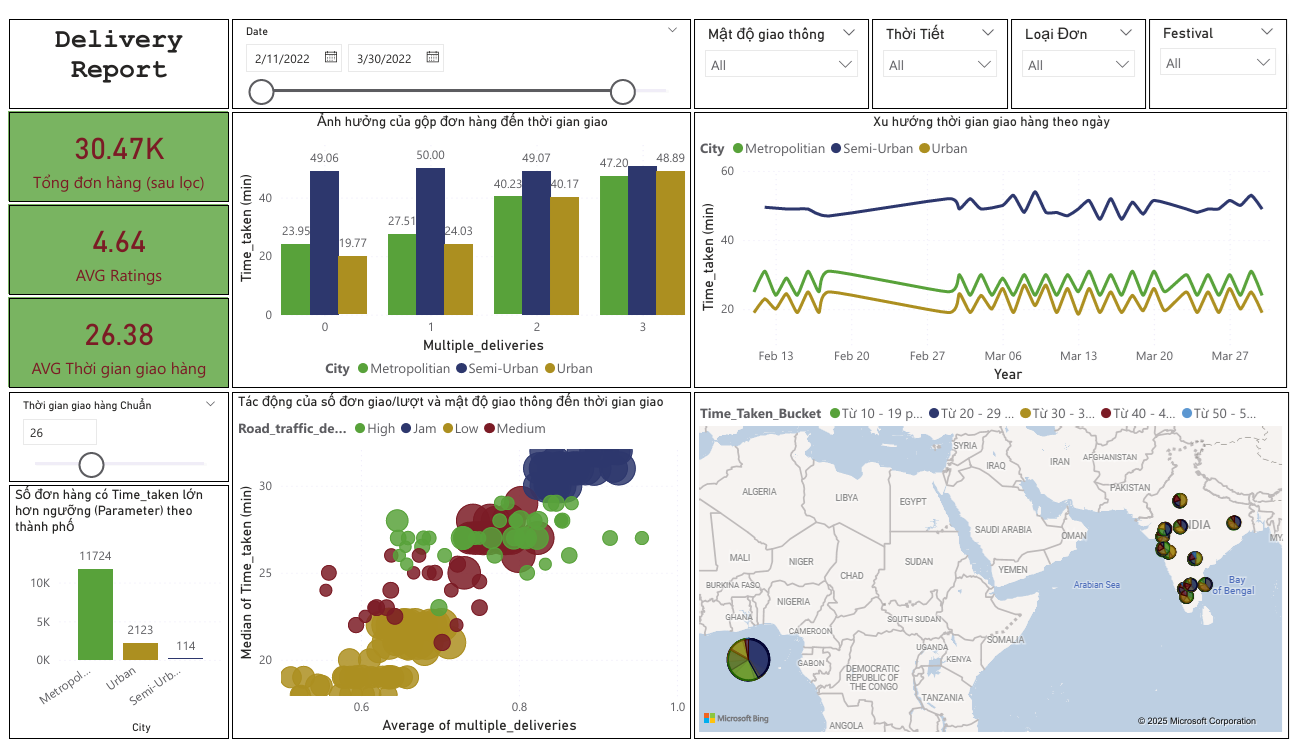

What the dashboard file says about the page in this screenshot:
{"tool":"powerbi","page":{"name":"Page 1","canvas":[1280,720],"ordinal":0},"visuals":[{"type":"slicer","fields":{"Values":["Delivery.Weather_conditions"]},"box":[863,0,136,90],"z":0},{"type":"slicer","fields":{"Values":["Delivery.Road_traffic_density"]},"box":[685,0,175,90],"z":1000},{"type":"slicer","fields":{"Values":["Delivery.Type_of_order"]},"box":[1002,0,135,90],"z":2000},{"type":"scatterChart","title":"Tác động của số đơn giao/lượt và mật độ giao thông đến thời gian giao","fields":{"Y":["Median(Delivery.Time_taken (min))"],"Size":["CountNonNull(Delivery.Weather_conditions)"],"Series":["Delivery.Road_traffic_density"],"X":["Avg(Delivery.multiple_deliveries)"],"Category":["Delivery.Time_Orderd"]},"box":[223,373,459,347],"z":3000},{"type":"map","fields":{"X":["Delivery.Delivery_location_longitude"],"Y":["Delivery.Delivery_location_latitude"],"Size":["CountNonNull(Delivery.Delivery_person_ID)"],"Series":["Delivery.Time_Taken_Bucket"]},"box":[685,373,595,347],"z":4000},{"type":"card","fields":{"Values":["CountNonNull(Delivery.Delivery_person_ID)"]},"box":[0,93,220,90],"z":5000},{"type":"slicer","fields":{"Values":["CalendarTable.Date"]},"box":[223,0,459,90],"z":6000},{"type":"card","fields":{"Values":["Avg(Delivery.Time_taken (min))"]},"box":[0,279.4,220.3,90],"z":7000},{"type":"card","fields":{"Values":["Avg(Delivery.Delivery_person_Ratings)"]},"box":[0,186.3,220.3,90],"z":8000},{"type":"clusteredColumnChart","title":"Ảnh hưởng của gộp đơn hàng đến thời gian giao","fields":{"Category":["Delivery.multiple_deliveries"],"Y":["Avg(Delivery.Time_taken (min))"],"Series":["Delivery.City"]},"box":[223,93,459,276],"z":9000},{"type":"clusteredColumnChart","title":"Số đơn hàng có Time_taken lớn hơn ngưỡng (Parameter) theo thành phố","fields":{"Category":["Delivery.City"],"Y":["Delivery.Delivery_Above_Threshold"]},"box":[0,466,220,254],"z":10000},{"type":"actionButton","box":[0,0,100,40],"z":11000},{"type":"slicer","fields":{"Values":["Parameter.Parameter"]},"box":[0,373,220,90],"z":12000},{"type":"lineChart","title":"Xu hướng thời gian giao hàng theo ngày","fields":{"Y":["Median(Delivery.Time_taken (min))"],"Series":["Delivery.City"],"Category":["CalendarTable.Date.Variation.Date Hierarchy.Year","CalendarTable.Date.Variation.Date Hierarchy.Quarter","CalendarTable.Date.Variation.Date Hierarchy.Month","CalendarTable.Date.Variation.Date Hierarchy.Day"]},"box":[685,93,593,276],"z":13000},{"type":"slicer","title":"Festival","fields":{"Values":["Delivery.Festival"]},"box":[1140,0,138,90],"z":14000},{"type":"textbox","box":[0,0,220.3,90.4],"z":15000}]}

Visuals, with their boxes in screenshot pixels (x1, y1, x2, y2), scaled from the page's 1280x720 canvas onto the 1294x746 screenshot:
slicer - Delivery.Weather_conditions: region(872, 0, 1010, 93)
slicer - Delivery.Road_traffic_density: region(692, 0, 869, 93)
slicer - Delivery.Type_of_order: region(1013, 0, 1149, 93)
"Tác động của số đơn giao/lượt và mật độ giao thông đến thời gian giao" scatterChart: region(225, 386, 689, 745)
map - Delivery.Delivery_location_longitude x Delivery.Delivery_location_latitude: region(692, 386, 1293, 745)
card - CountNonNull(Delivery.Delivery_person_ID): region(0, 96, 222, 190)
slicer - CalendarTable.Date: region(225, 0, 689, 93)
card - Avg(Delivery.Time_taken (min)): region(0, 289, 223, 383)
card - Avg(Delivery.Delivery_person_Ratings): region(0, 193, 223, 286)
"Ảnh hưởng của gộp đơn hàng đến thời gian giao" clusteredColumnChart: region(225, 96, 689, 382)
"Số đơn hàng có Time_taken lớn hơn ngưỡng (Parameter) theo thành phố" clusteredColumnChart: region(0, 483, 222, 745)
actionButton: region(0, 0, 101, 41)
slicer - Parameter.Parameter: region(0, 386, 222, 480)
"Xu hướng thời gian giao hàng theo ngày" lineChart: region(692, 96, 1292, 382)
"Festival" slicer: region(1152, 0, 1292, 93)
textbox: region(0, 0, 223, 94)
